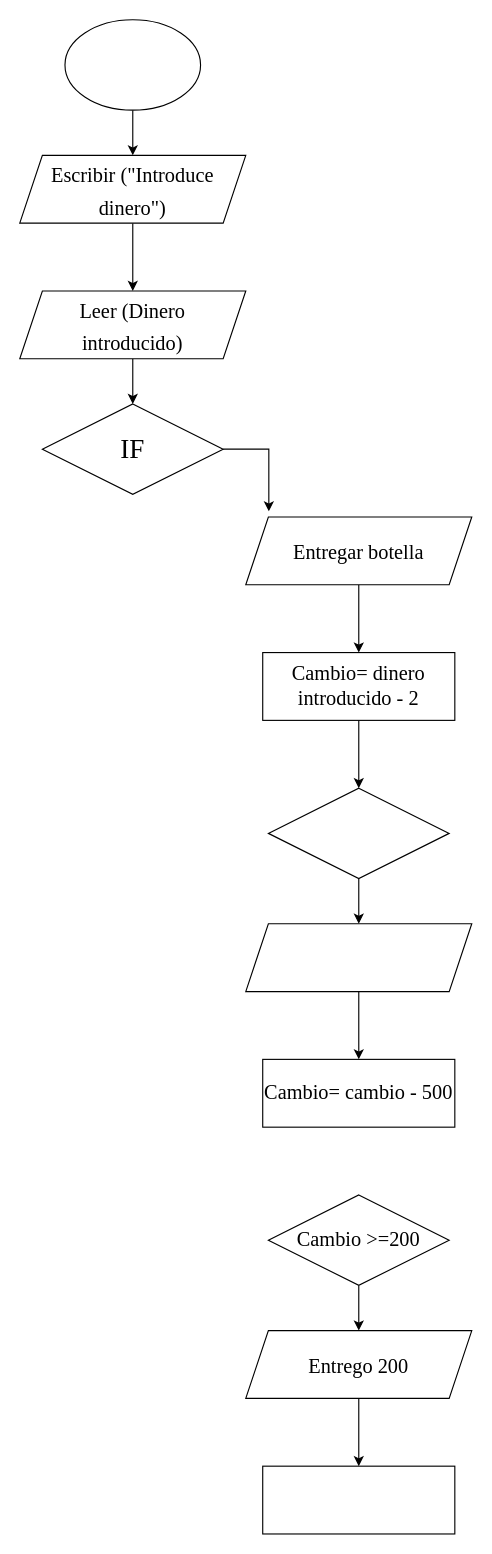
Image size: 492x1554. Some labels were removed from this diagram. The centre of each missing label's shape, as x and y in pixels:
"Cambio >= 500" goes at (x=358, y=833).
"Cambio= cambio - 200" goes at (x=358, y=1499).
"Entrego 500" goes at (x=358, y=957).
"INIT" goes at (x=132, y=64).
